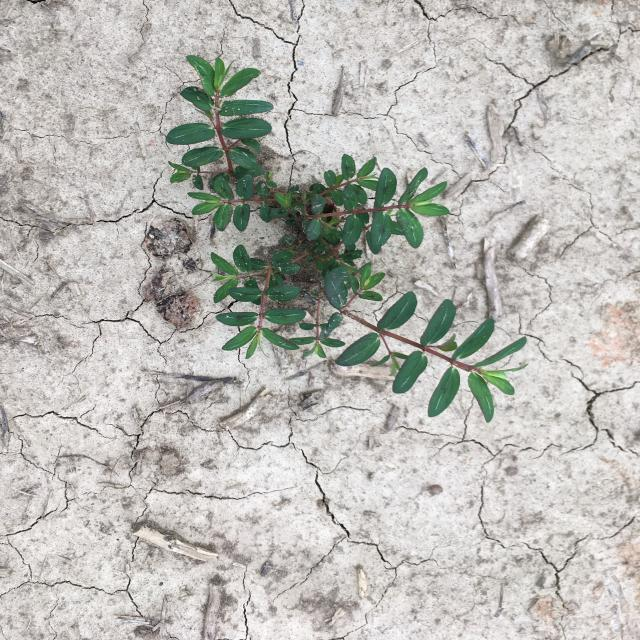SpottedSpurge: (187, 154, 528, 423), (166, 54, 274, 194)
